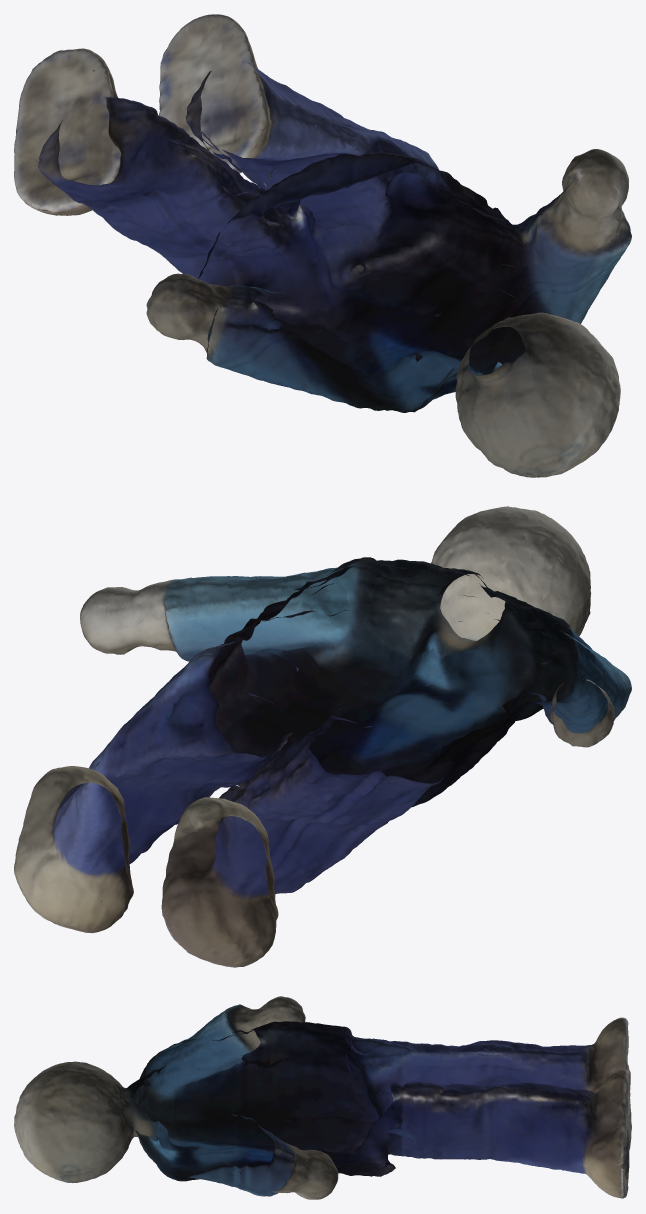
Rendered from grandfather.glb.
3 views of the same model, one above another, from view 1: azimuth 30°, elevation 25°; view 2: azimuth 150°, elevation 25°; view 3: azimuth 270°, elevation 25° (orthographic). The views are drawn at different scales.
Size of the model in its own units: 0.6768 by 0.2384 by 1.
